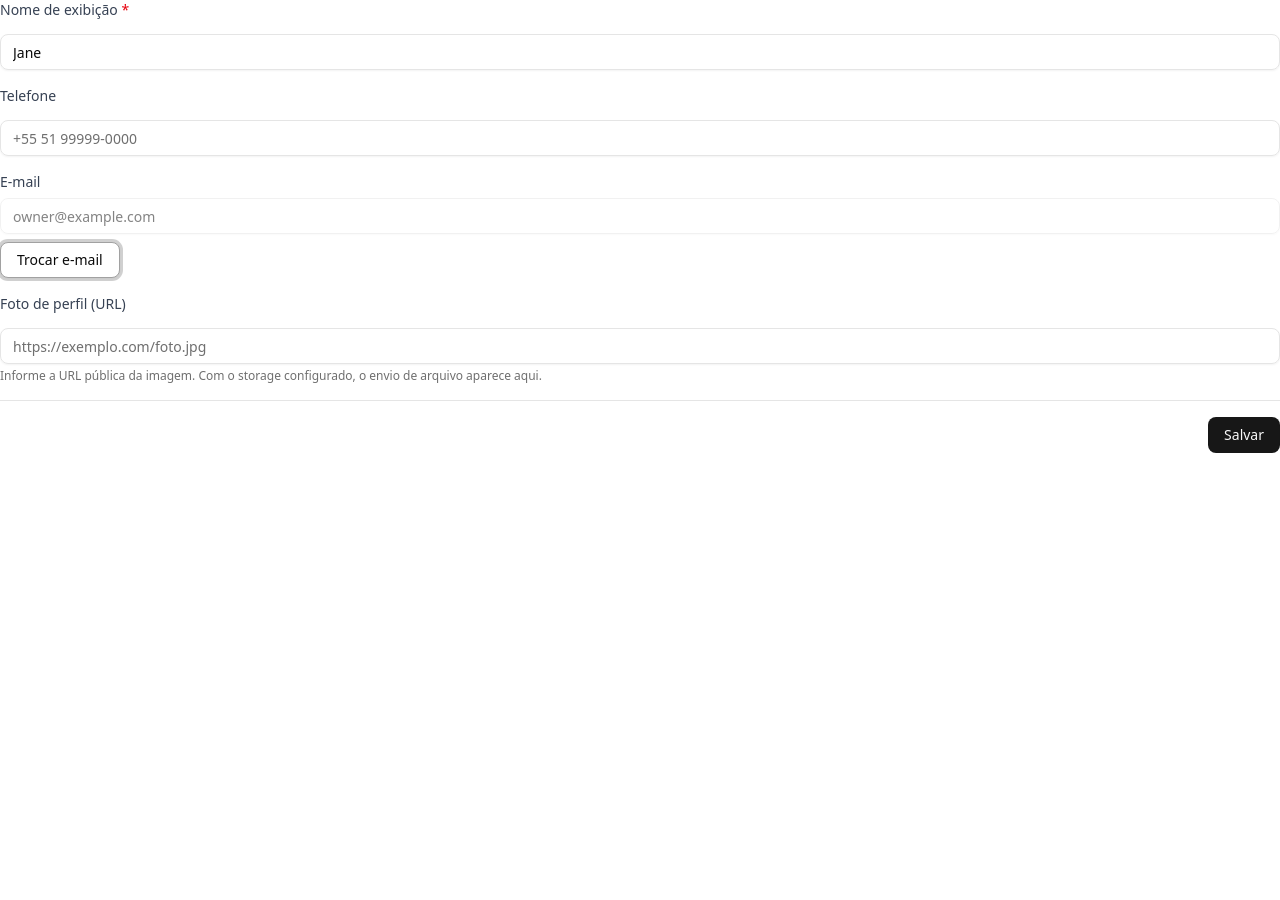
Test: AccountProfileForm — troca de e-mail › devolve o foco ao botão que abriu o diálogo › ao fechar pelo Esc
Click the button "Trocar e-mail": (60, 260) [0,242,120,278]
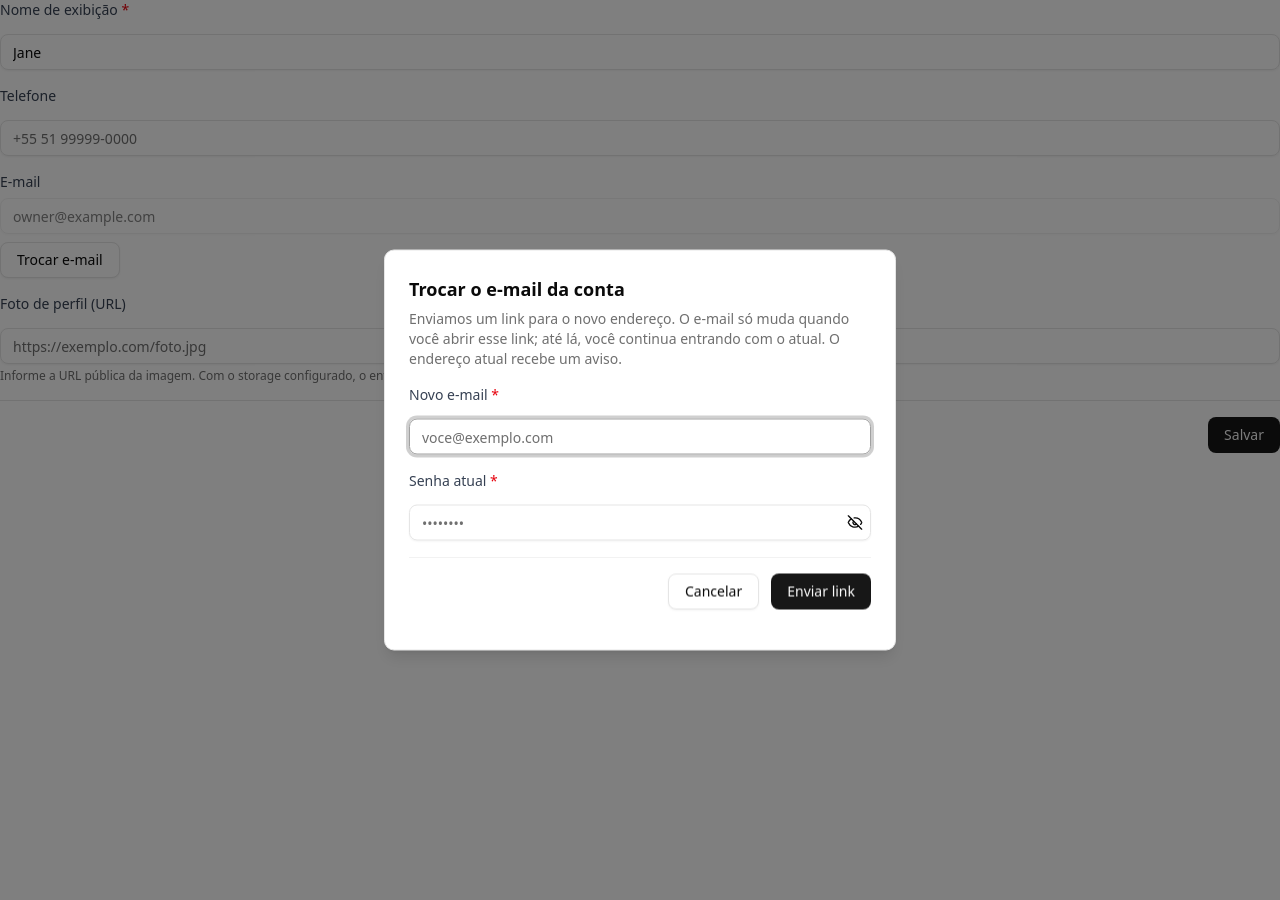
Press Escape in the field labelled "Novo e-mail *", box [409,418,871,454]
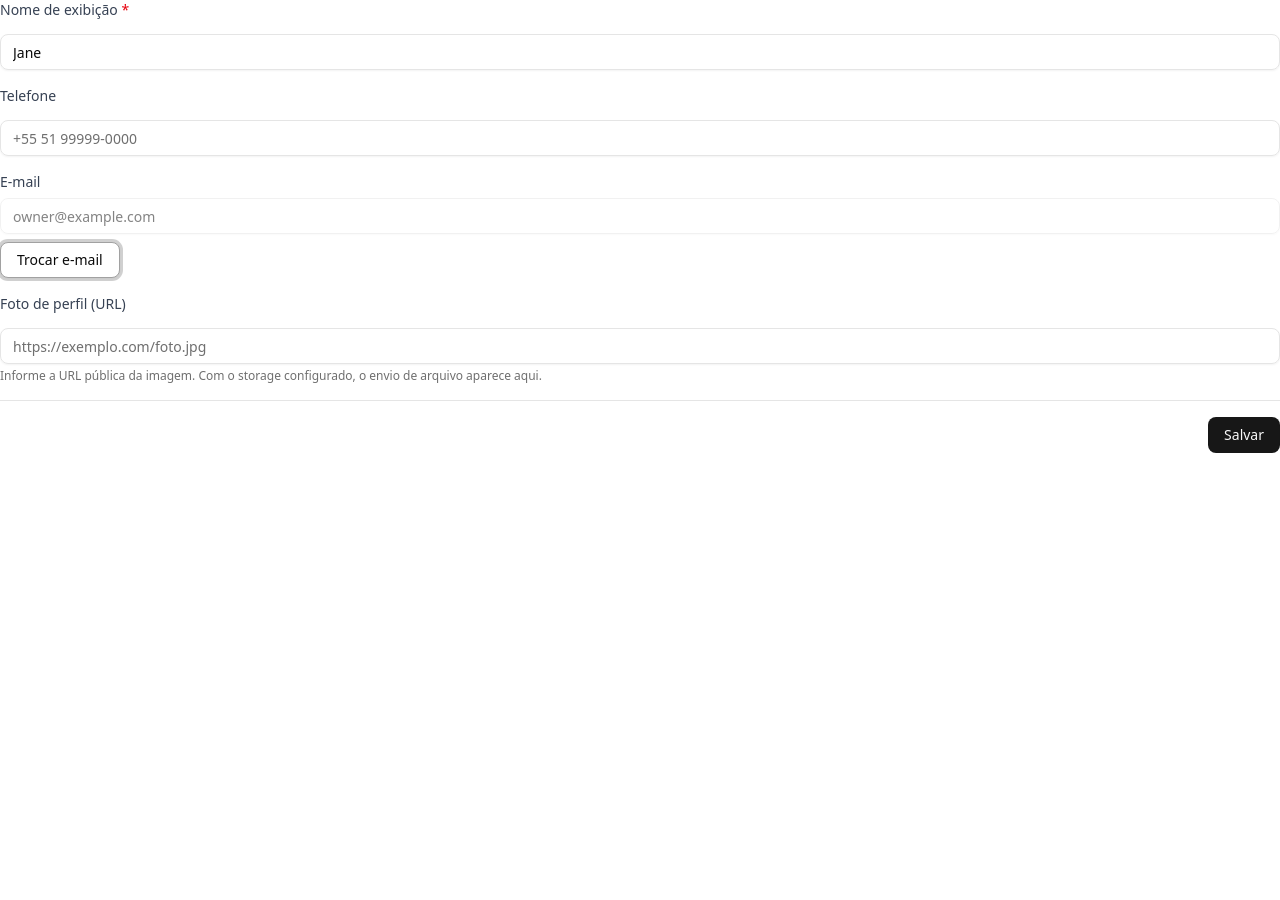
Expected: the dialog is gone
